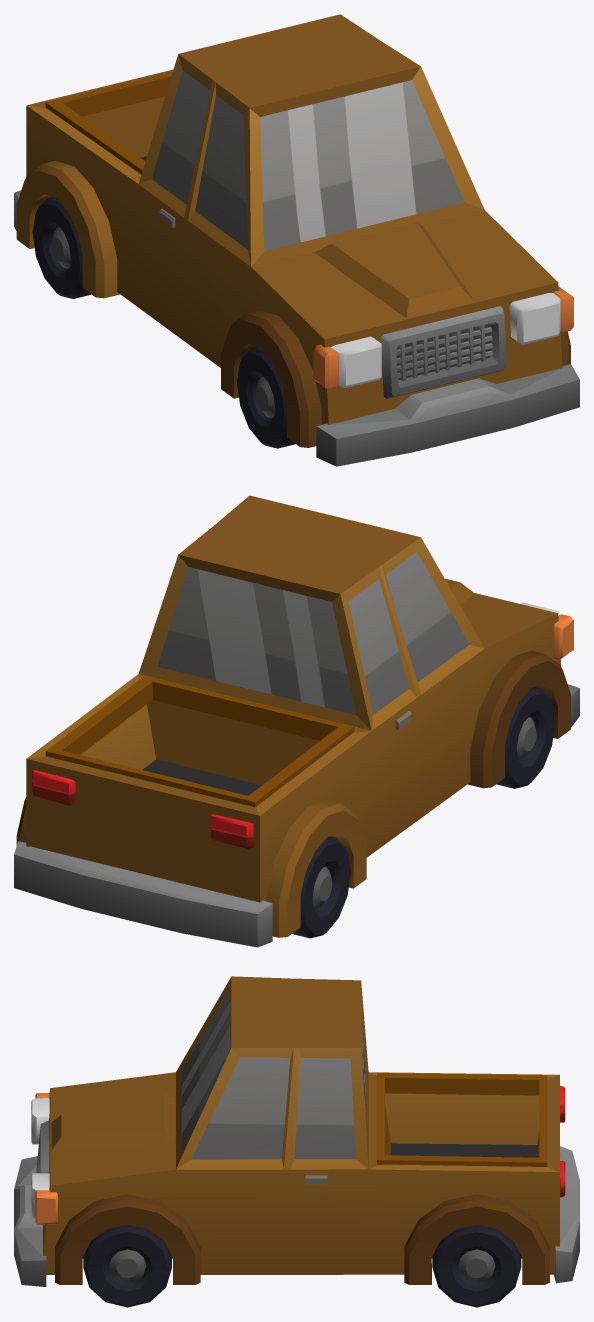
File: PickUp_3.glb
3 renders of one model, top to bottom at view 1: azimuth 30°, elevation 25°; view 2: azimuth 150°, elevation 25°; view 3: azimuth 270°, elevation 25°, orthographic. The views are drawn at different scales.
Visible parts, largest first — view 1: PickUp_3, BWhel_BR, BWhel_FR; view 2: PickUp_3, BWhel_BR, BWhel_FR; view 3: PickUp_3, BWhel_BL, BWhel_FL.
Part boxes in pixels (bbox=[...]): PickUp_3: bbox=[14, 14, 579, 466]; BWhel_BR: bbox=[32, 197, 91, 298]; BWhel_FR: bbox=[237, 346, 295, 448]; PickUp_3: bbox=[14, 495, 579, 947]; BWhel_BR: bbox=[292, 836, 350, 938]; BWhel_FR: bbox=[496, 687, 554, 788]; PickUp_3: bbox=[14, 976, 579, 1286]; BWhel_BL: bbox=[432, 1225, 521, 1307]; BWhel_FL: bbox=[83, 1225, 171, 1307].
Size of the model in its own units: 1.09 by 1.08 by 2.3.
6 materials, 6 textured.
